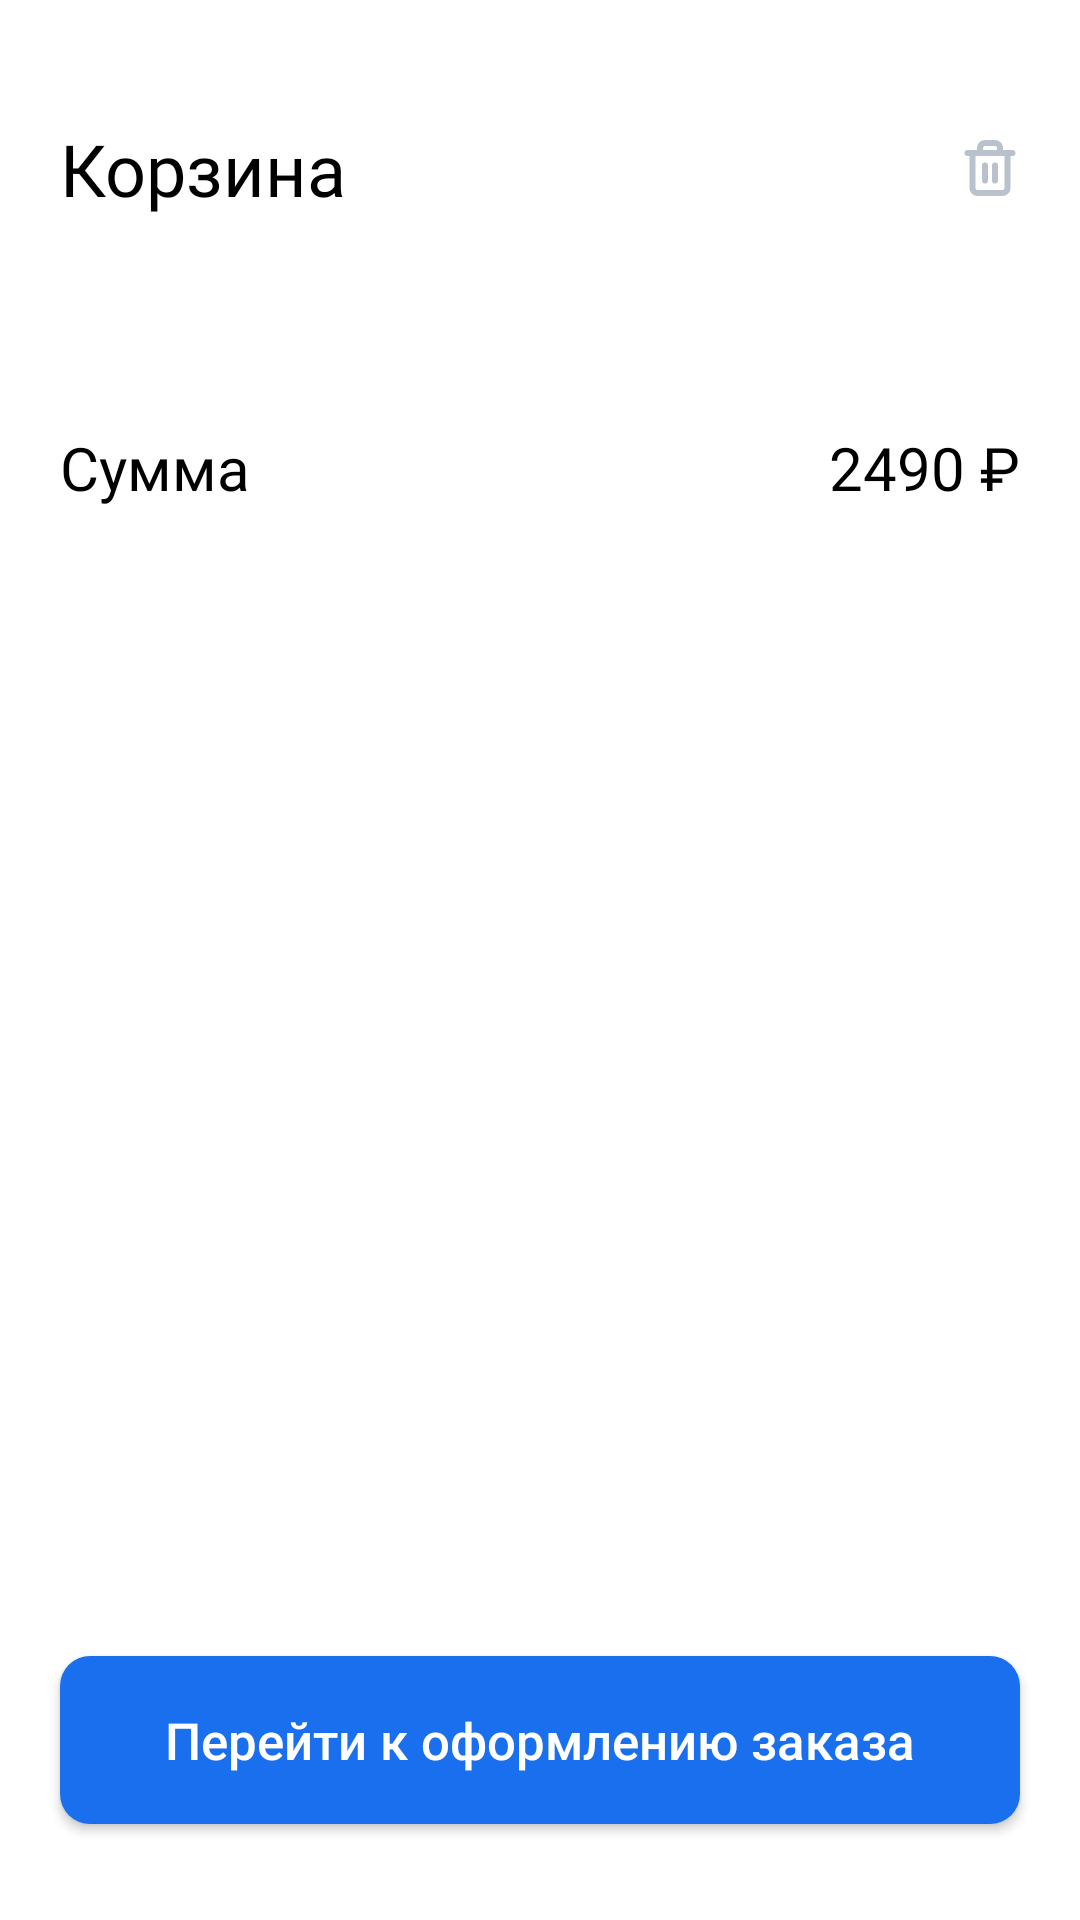

Icon click points for this 1080w x 1920h phone screenshot, format [x,y]:
delete: [990,168]
